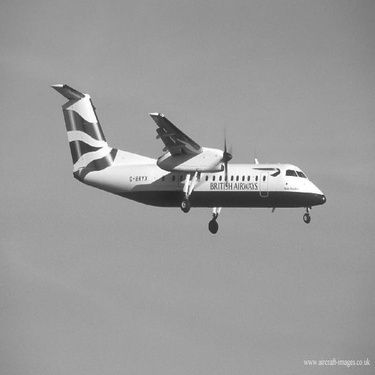airplane: (37, 69, 337, 237)
